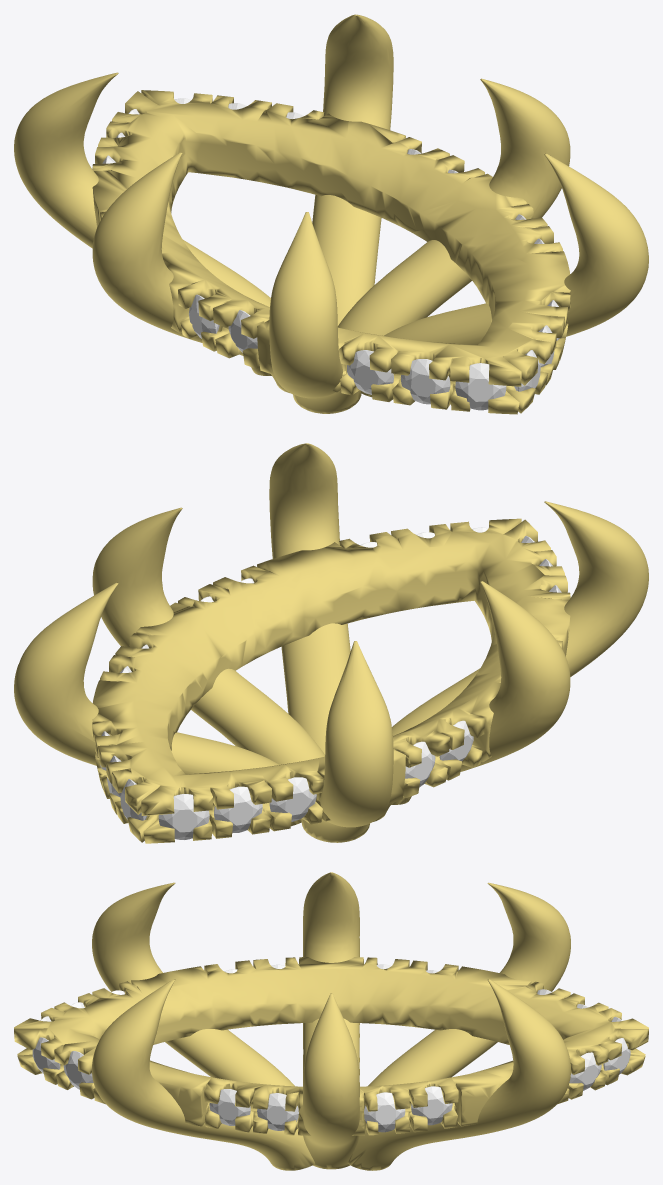
The model's file is JUL_MA_02_HEAD_1.glb.
3 renders of one model, top to bottom at view 1: azimuth 30°, elevation 25°; view 2: azimuth 150°, elevation 25°; view 3: azimuth 270°, elevation 25°, orthographic. The views are drawn at different scales.
Parts seen in each view (by area): view 1: head_body, all-diamonds.027, all-diamonds.029, all-diamonds.028, all-diamonds.011, all-diamonds.010; view 2: head_body, all-diamonds.016, all-diamonds.014, all-diamonds.015, all-diamonds.013; view 3: head_body, all-diamonds.021, all-diamonds.023, all-diamonds.020, all-diamonds.022, all-diamonds.019, all-diamonds.024, all-diamonds.017, all-diamonds.026.
Part boxes in pixels (x1,y1,x2,y2): head_body: [14, 14, 648, 414]; all-diamonds.027: [455, 363, 506, 410]; all-diamonds.029: [400, 359, 450, 404]; all-diamonds.028: [347, 350, 393, 394]; all-diamonds.011: [228, 310, 257, 352]; all-diamonds.010: [189, 294, 219, 338]; head_body: [14, 443, 648, 843]; all-diamonds.016: [158, 794, 209, 839]; all-diamonds.014: [214, 786, 262, 832]; all-diamonds.015: [269, 777, 316, 821]; all-diamonds.013: [405, 741, 435, 787]; head_body: [14, 872, 648, 1170]; all-diamonds.021: [364, 1092, 405, 1132]; all-diamonds.023: [257, 1093, 298, 1130]; all-diamonds.020: [411, 1086, 452, 1125]; all-diamonds.022: [209, 1089, 250, 1125]; all-diamonds.019: [569, 1052, 601, 1090]; all-diamonds.024: [63, 1051, 93, 1089]; all-diamonds.017: [603, 1038, 630, 1074]; all-diamonds.026: [32, 1037, 60, 1073].
Bounding box in the file's own units: 10.13 × 5.49 × 14.37.
